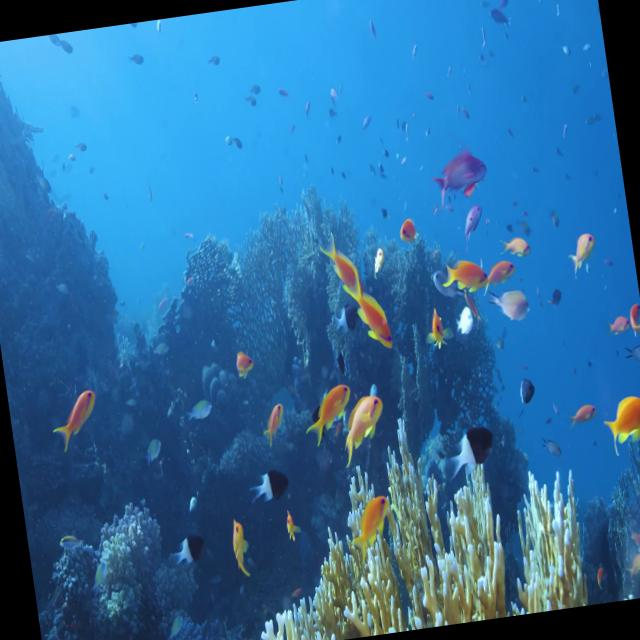fish: (330, 388, 396, 472), (428, 414, 506, 484), (310, 219, 372, 307), (45, 375, 109, 458), (299, 371, 359, 451), (431, 135, 497, 201), (358, 280, 402, 358), (560, 208, 605, 282), (488, 264, 540, 326), (438, 252, 493, 304), (245, 455, 294, 513), (223, 512, 260, 588), (602, 386, 640, 460), (166, 521, 208, 571), (258, 392, 292, 450), (500, 218, 538, 266), (480, 248, 519, 294), (225, 332, 259, 382), (394, 209, 424, 256), (331, 300, 366, 340), (512, 370, 545, 410), (566, 392, 599, 432), (180, 393, 215, 429), (534, 426, 566, 464), (140, 428, 167, 471), (280, 506, 306, 542), (334, 336, 354, 372), (605, 312, 632, 338), (627, 301, 640, 340)
